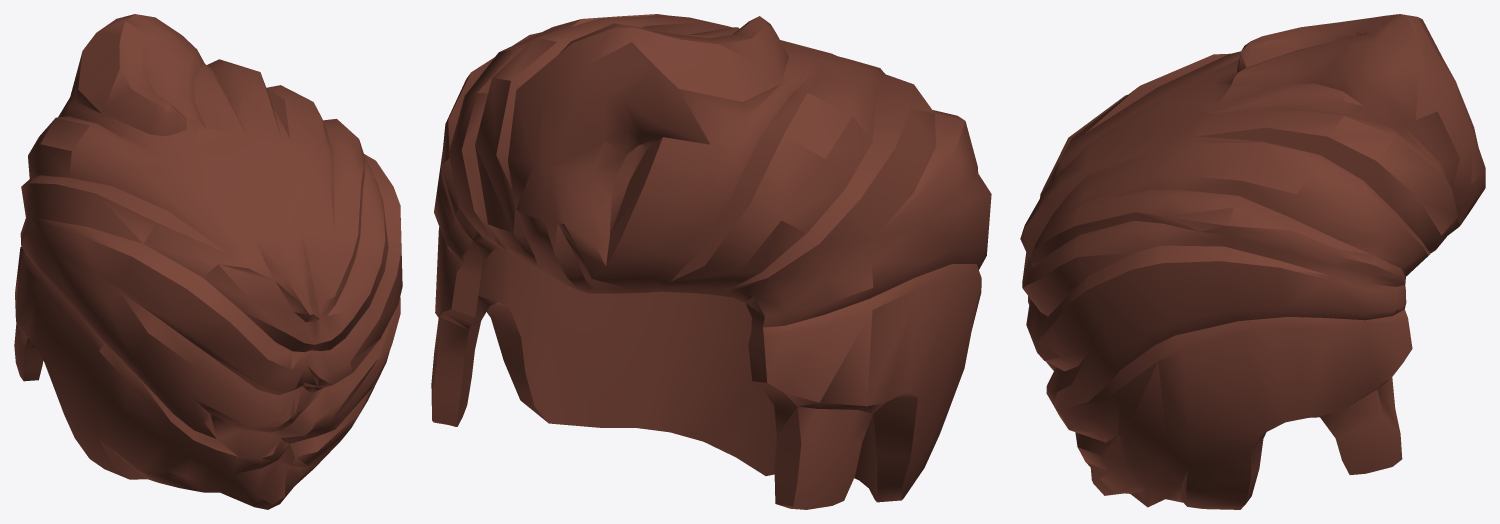
File: badman-hair.fbx
The picture shows the model from 3 angles, left to right: view 1: azimuth 30°, elevation 25°; view 2: azimuth 150°, elevation 25°; view 3: azimuth 270°, elevation 25°; orthographic projection. The views are drawn at different scales.
Parts seen in each view (by area): view 1: Inner-Node-badman-hair_dot_io-0.001; view 2: Inner-Node-badman-hair_dot_io-0.001; view 3: Inner-Node-badman-hair_dot_io-0.001.
Part boxes in pixels (bbox=[...]): Inner-Node-badman-hair_dot_io-0.001: bbox=[14, 14, 402, 509]; Inner-Node-badman-hair_dot_io-0.001: bbox=[431, 14, 991, 509]; Inner-Node-badman-hair_dot_io-0.001: bbox=[1020, 14, 1485, 509].
Bounding box in the file's own units: 129 × 154 × 139.
